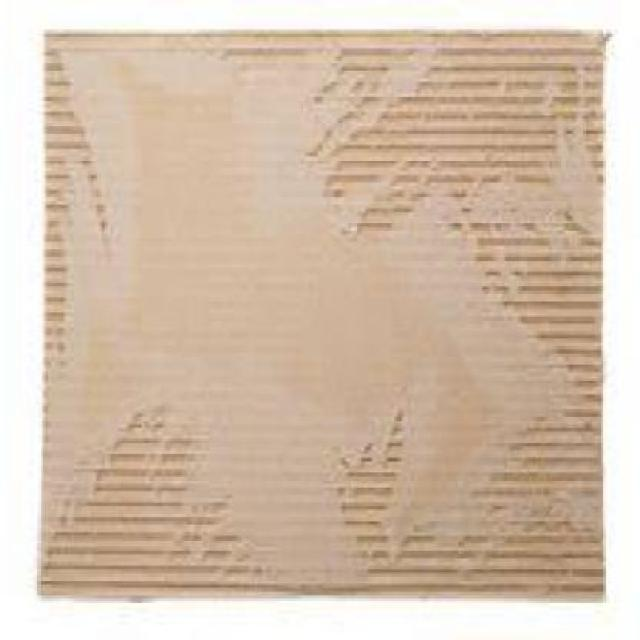CARDBOARD: (39, 26, 612, 599)
